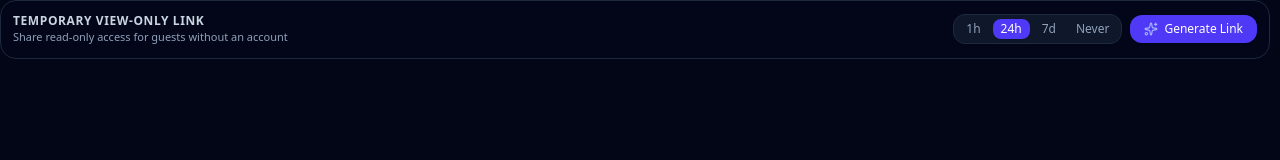
Scenario: TemporaryLinkGenerator Component › generates link on click, showing Copy Link and Reset buttons
Click the button "Generate Link" at (1194, 29), box [1130, 15, 1257, 43]
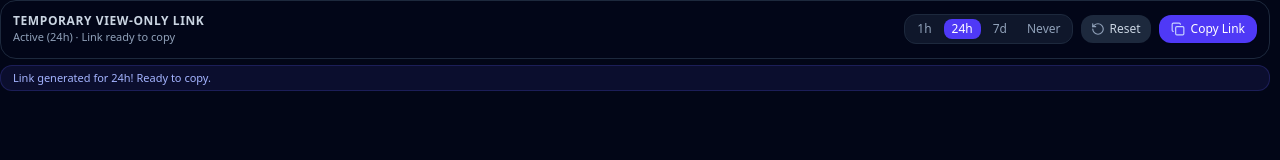
Check: the button "Copy Link" is shown, box [1159, 15, 1257, 43]
Check: the button "Reset" is shown, box [1082, 15, 1151, 43]
